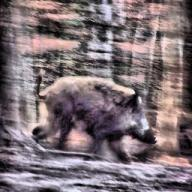boar: (31, 74, 158, 163)
